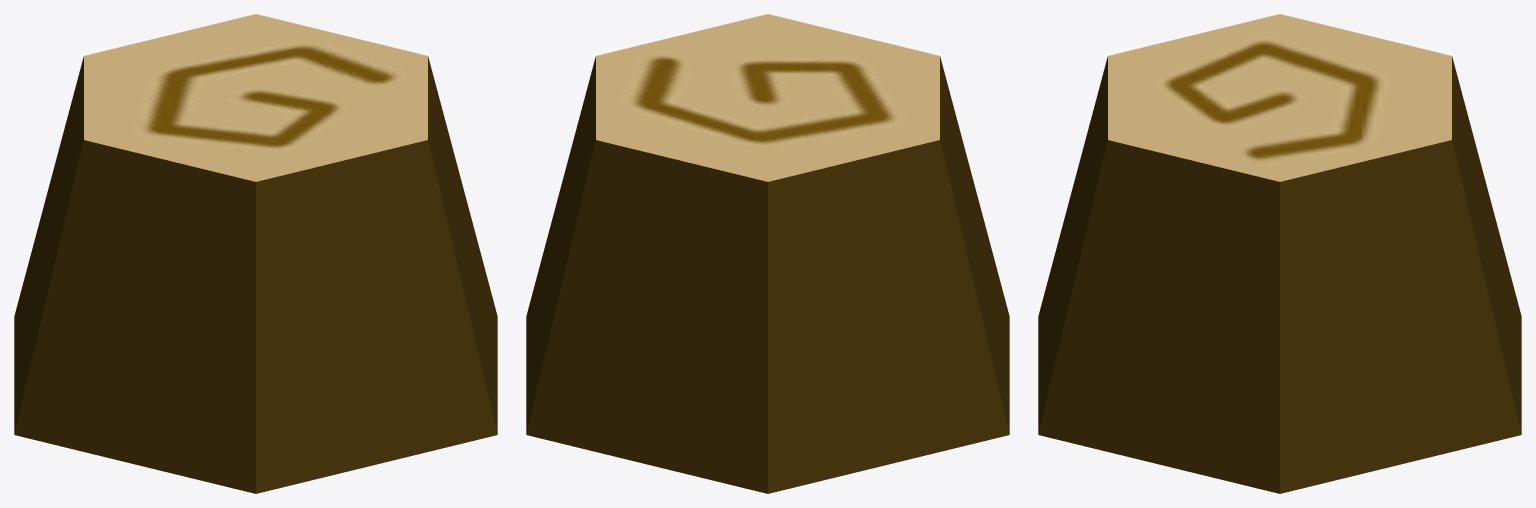
File: Tree_Stump.fbx
3 views of the same model, side by side, from view 1: azimuth 30°, elevation 25°; view 2: azimuth 150°, elevation 25°; view 3: azimuth 270°, elevation 25° (orthographic).
Parts seen in each view (by area): view 1: Tree_Stump; view 2: Tree_Stump; view 3: Tree_Stump.
Part boxes in pixels (x1,y1,x2,y2): Tree_Stump: [14, 14, 497, 493]; Tree_Stump: [526, 14, 1009, 493]; Tree_Stump: [1038, 14, 1521, 493].
Bounding box in the file's own units: 2 × 1.1 × 1.73.
